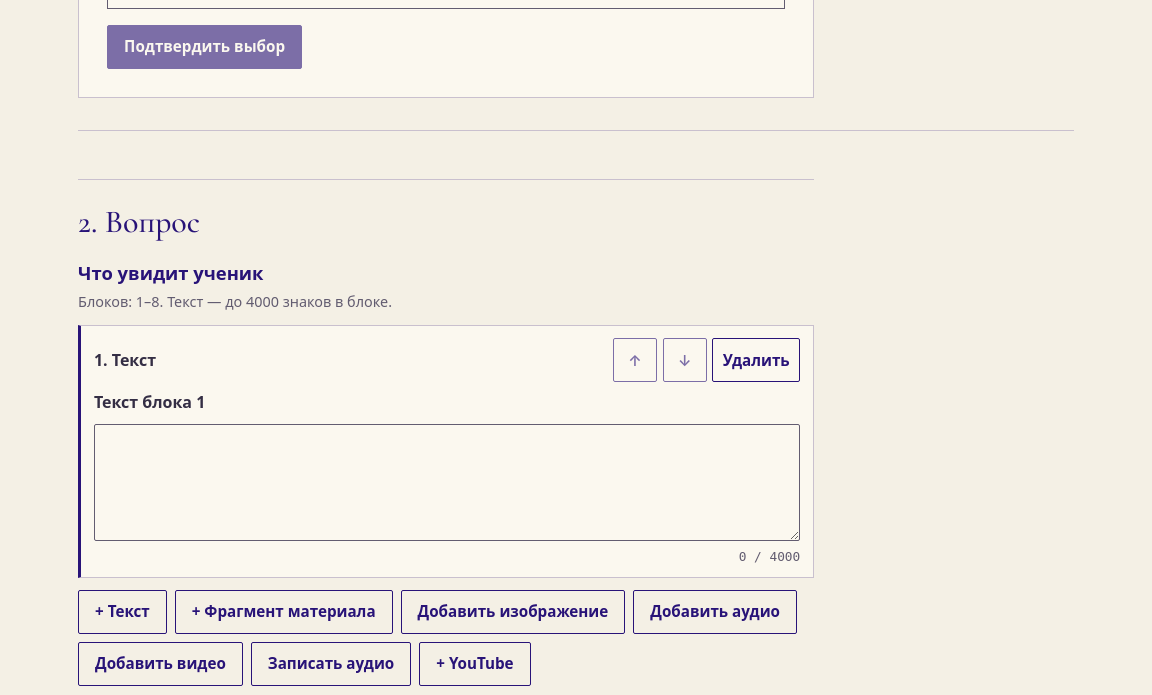
Test: ExerciseAuthoringPageComponent › preview modes › the first authored input replaces the demo with the author's own draft and placeholders, never mixing them
(page scrolled)
Step 1. Type "Столица Японии?" into the text box with id "choice-prompt-text-0" → {"x": 447, "y": 483}, box [94,424,800,541]
(page scrolled)
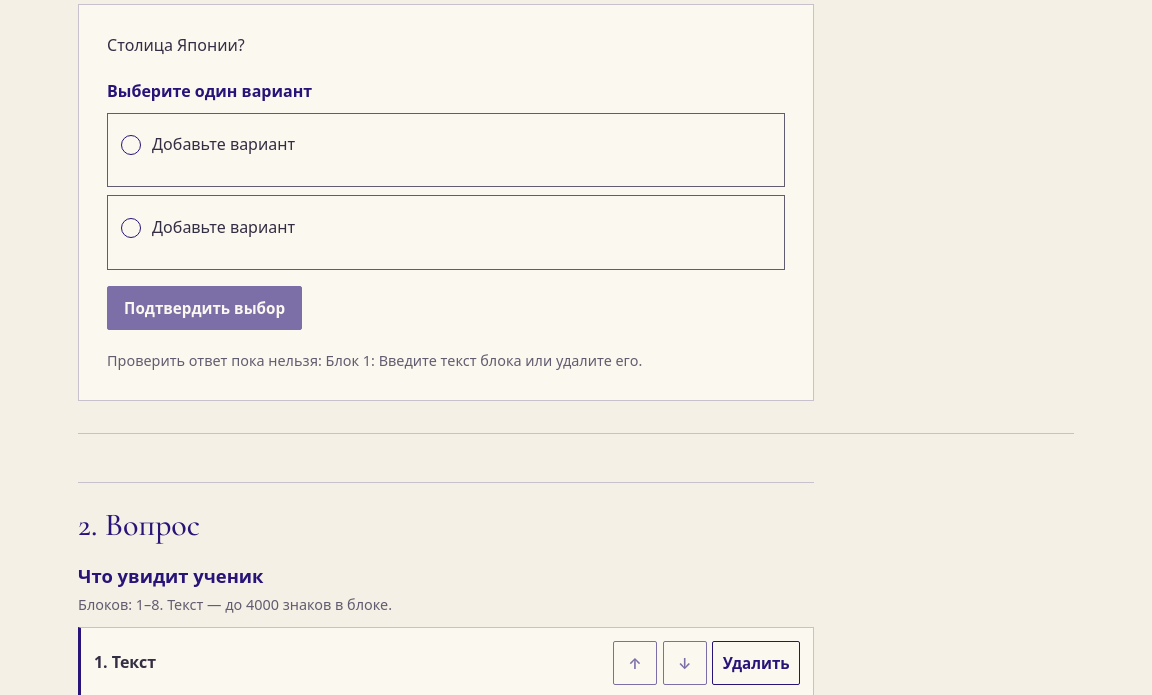
expect the element that starts with "Предпросмотр" shows "Столица Японии?": met, box [107,34,245,56]
expect the element that starts with "Предпросмотр" shows "Добавьте вариант": met, box [152,133,295,155]
expect the message with class "blocked" shows "Проверить ответ пока нельзя": met, box [107,351,642,370]
